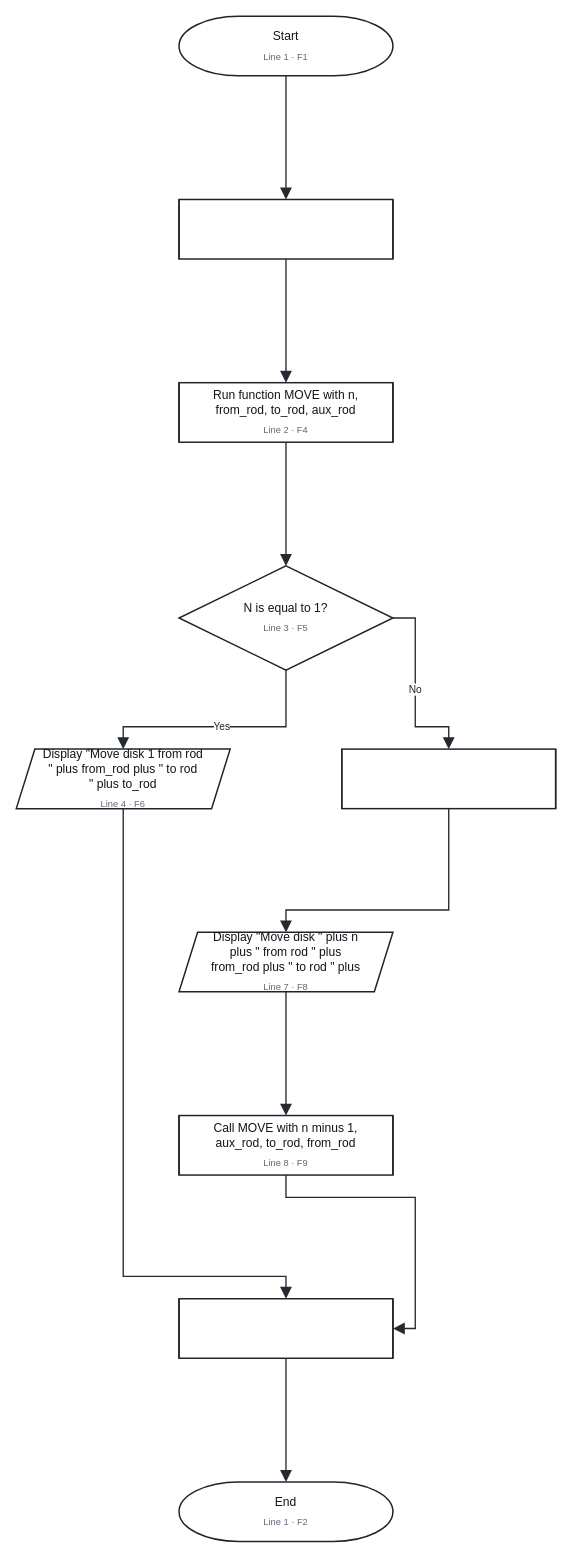
The diagram is 573 pixels wide and 1559 high, and some of its shapes have lost their labels. The box of each missing label's shape, as (x1, y1, x2, y2) in pixels:
Call MOVE with n minus 1, from_rod, aux_rod, to_rod Line 6 · F7: (341, 748, 556, 809)
Call MOVE with N, "A", "C", "B" Line 11 · F10: (178, 1298, 393, 1359)
Run function TOWER_OF_HANOI with N Line 1 · F3: (178, 198, 393, 259)
